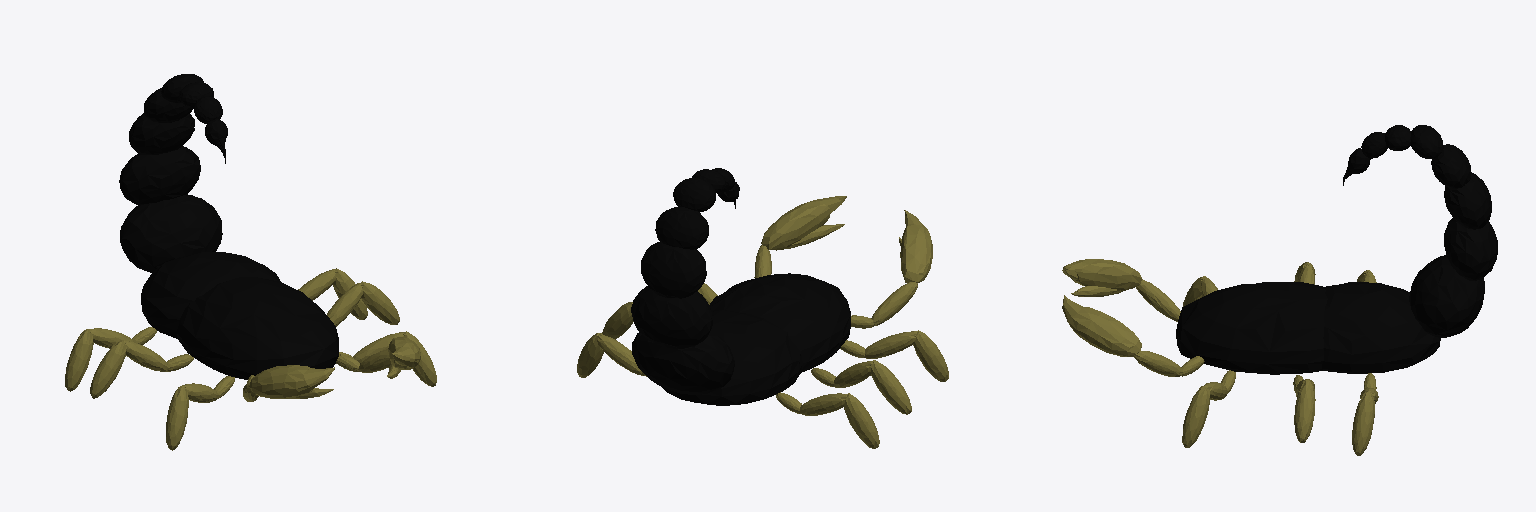
Rendered from scorpion_000020.obj.
The picture shows the model from 3 angles: view 1: azimuth 30°, elevation 25°; view 2: azimuth 150°, elevation 25°; view 3: azimuth 270°, elevation 25°; orthographic projection.
Parts seen in each view (by area): view 1: Sphere.010_Sphere.012, Sphere.002_Sphere.004, Sphere.011_Sphere.013, Sphere.003_Sphere.005, Sphere.030_Sphere.000, Sphere.012_Sphere.020, Sphere.004_Sphere.006, Sphere.000_Sphere.019, Sphere.014_Sphere.023, Sphere.016_Sphere.022, Sphere.018_Sphere.025, Sphere.013_Sphere.017 (+6 smaller); view 2: Sphere.010_Sphere.012, Sphere.011_Sphere.013, Sphere.002_Sphere.004, Sphere.030_Sphere.000, Sphere.003_Sphere.005, Sphere.004_Sphere.006, Sphere.005_Sphere.007, Sphere.012_Sphere.020, Sphere.014_Sphere.023, Sphere.018_Sphere.025, Sphere.028_Sphere.046, Sphere.006_Sphere.008 (+3 smaller); view 3: Sphere.010_Sphere.012, Sphere.011_Sphere.013, Sphere.002_Sphere.004, Sphere.030_Sphere.000, Sphere.003_Sphere.005, Sphere.004_Sphere.006, Sphere.028_Sphere.046, Sphere.000_Sphere.019, Sphere.005_Sphere.007, Sphere.012_Sphere.020, Sphere.014_Sphere.023, Sphere.006_Sphere.008 (+2 smaller).
Part boxes in pixels (x1,y1,x2,y2): Sphere.010_Sphere.012: (177,277,338,379); Sphere.002_Sphere.004: (120,194,222,272); Sphere.011_Sphere.013: (141,252,280,338); Sphere.003_Sphere.005: (119,146,200,204); Sphere.030_Sphere.000: (249,337,420,398); Sphere.012_Sphere.020: (90,281,399,398); Sphere.004_Sphere.006: (129,113,194,154); Sphere.000_Sphere.019: (166,331,436,450); Sphere.014_Sphere.023: (65,268,367,391); Sphere.016_Sphere.022: (124,283,362,371); Sphere.018_Sphere.025: (86,270,335,348); Sphere.013_Sphere.017: (180,332,403,402); Sphere.010_Sphere.012: (710,273,850,372); Sphere.011_Sphere.013: (661,310,802,405); Sphere.002_Sphere.004: (632,331,734,394); Sphere.030_Sphere.000: (761,196,932,282); Sphere.003_Sphere.005: (631,286,712,348); Sphere.004_Sphere.006: (641,242,706,298); Sphere.005_Sphere.007: (655,207,708,249); Sphere.012_Sphere.020: (602,302,911,414); Sphere.014_Sphere.023: (577,333,879,448); Sphere.018_Sphere.025: (597,334,846,415); Sphere.028_Sphere.046: (754,245,917,325); Sphere.006_Sphere.008: (673,178,715,211); Sphere.010_Sphere.012: (1176,282,1327,374); Sphere.011_Sphere.013: (1322,282,1440,373); Sphere.002_Sphere.004: (1409,255,1484,337); Sphere.030_Sphere.000: (1062,259,1141,356); Sphere.003_Sphere.005: (1444,218,1497,280); Sphere.004_Sphere.006: (1444,172,1491,229); Sphere.028_Sphere.046: (1134,279,1182,376); Sphere.000_Sphere.019: (1182,276,1209,447); Sphere.005_Sphere.007: (1431,144,1470,188); Sphere.012_Sphere.020: (1294,262,1315,442); Sphere.014_Sphere.023: (1352,270,1374,455); Sphere.006_Sphere.008: (1411,125,1443,158).
Bounding box in the file's own units: 0.9635 × 0.7672 × 1.18.